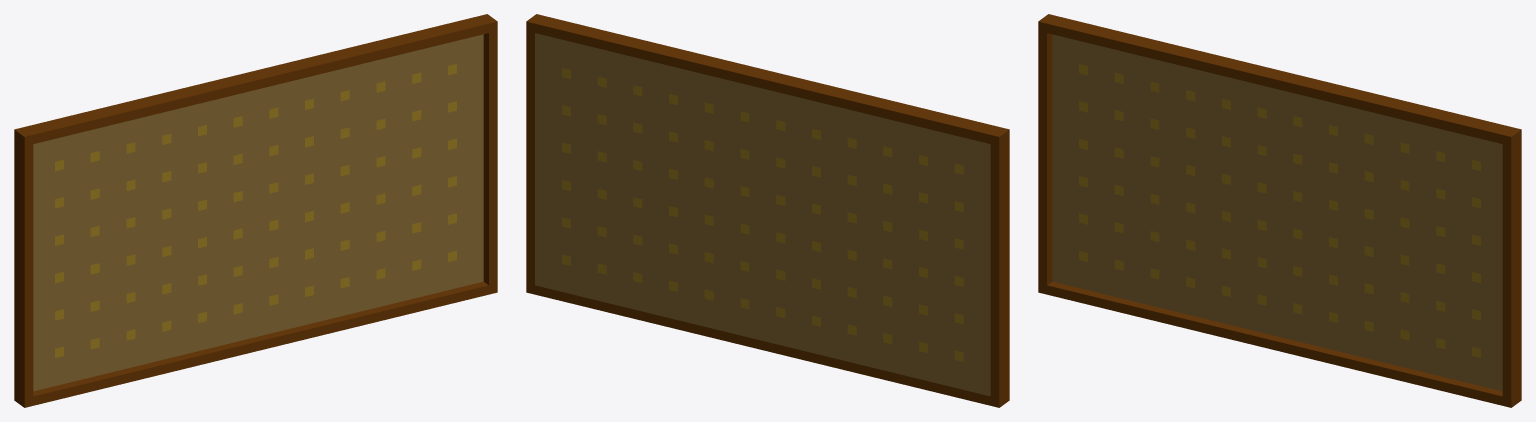
The model's file is Noteboard.obj.
3 views of the same model, side by side, from view 1: azimuth 30°, elevation 25°; view 2: azimuth 150°, elevation 25°; view 3: azimuth 330°, elevation 25° (orthographic).
Bounding box in the file's own units: 5.3 × 2.9 × 0.2.
Materials: 1 (1 with a texture image).
